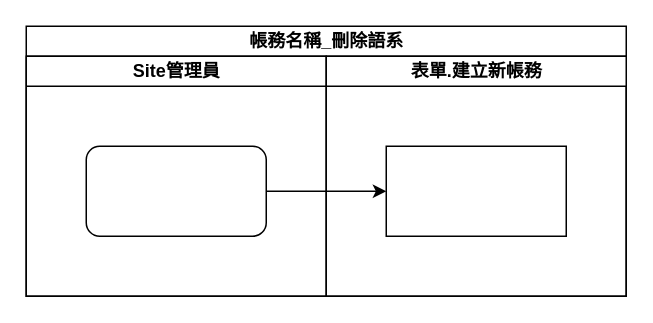
The diagram is 653 pixels wide and 323 high, and some of its shapes have lost their labels. The centre of each missing label's shape, as x and y in pixels:
"刪除該筆語系名稱" belongs at point 475,190.
"點擊按鈕.刪除語系" belongs at point 175,190.
